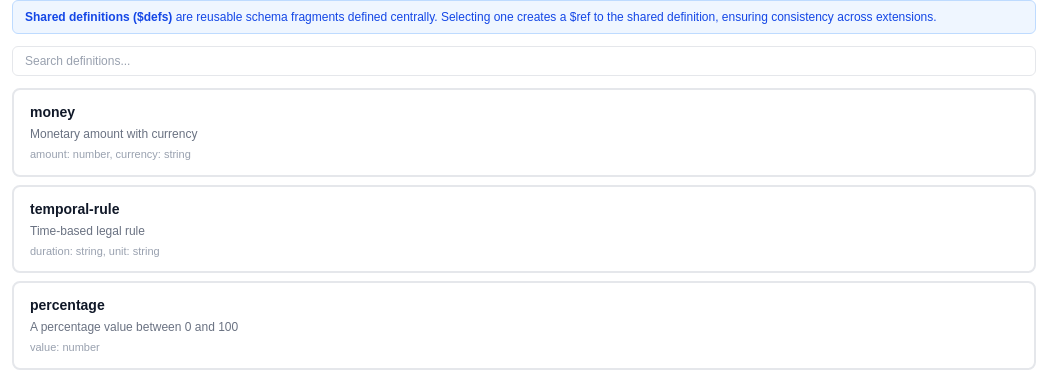
Test case: DefsBrowser › filters definitions by search
expect the text "money" is shown: met, box x1=30 y1=102 x2=75 y2=122
Type "temporal" into the field with placeholder "Search definitions...".
click(524, 61); type("temporal")  # box x1=12 y1=46 x2=1036 y2=76
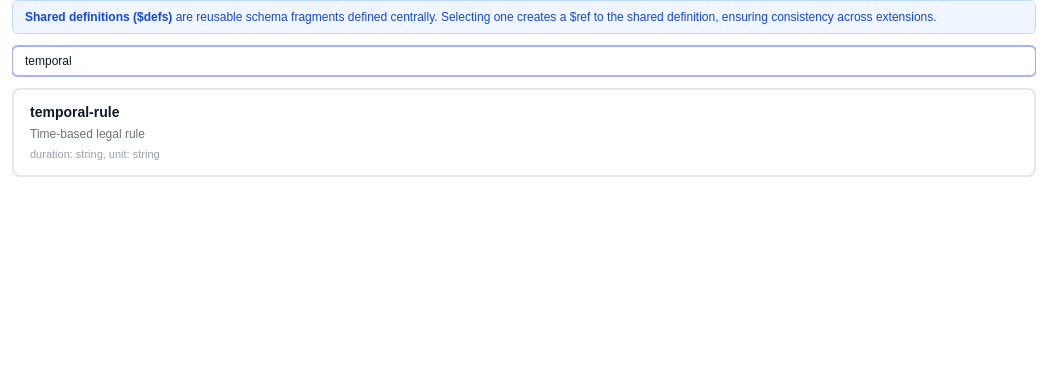
expect the text "temporal-rule" is shown: met, box x1=30 y1=102 x2=120 y2=122
expect the button "money" is gone: met
expect the button "percentage" is gone: met
